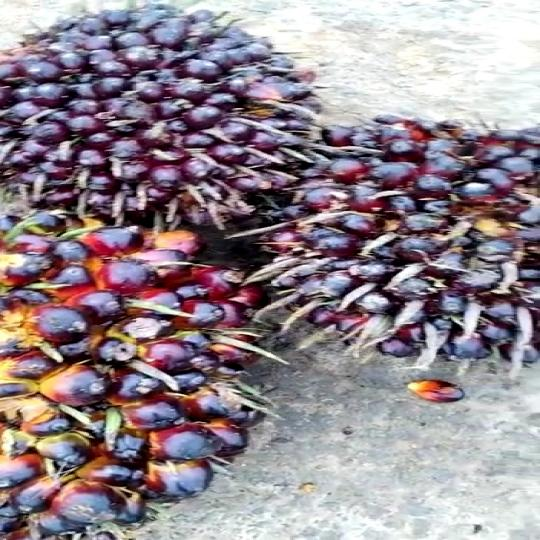kurang masak: (0, 193, 295, 537), (0, 0, 340, 231), (266, 100, 540, 384)
